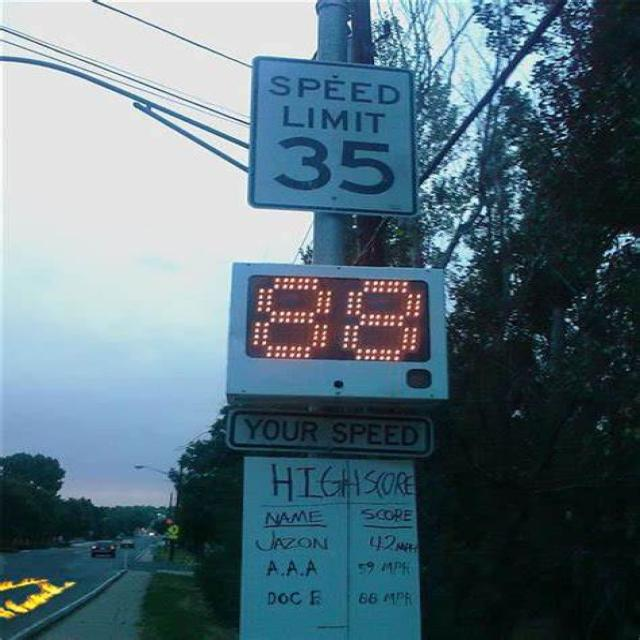speedLimit35: (250, 42, 414, 229)
